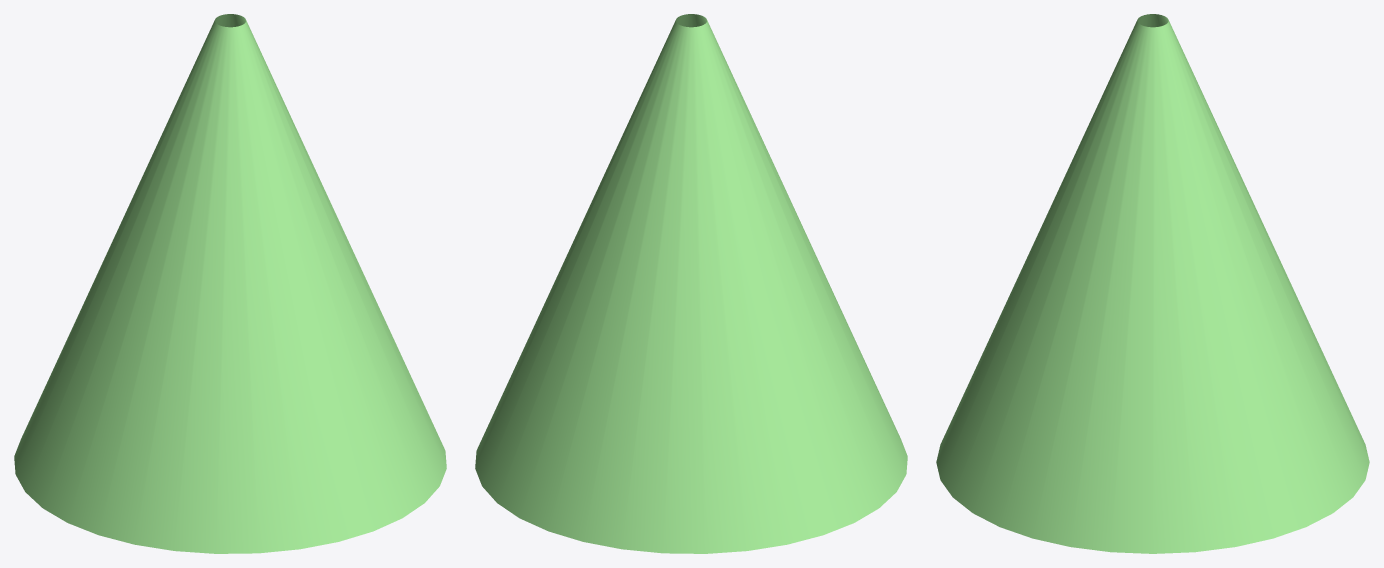
File: Dragonfly_Abduction_UFO_LightGlow_Inverted.fbx
The picture shows the model from 3 angles, left to right: view 1: azimuth 30°, elevation 25°; view 2: azimuth 150°, elevation 25°; view 3: azimuth 270°, elevation 25°; orthographic projection.
Parts seen in each view (by area): view 1: LightGlow_Inverted; view 2: LightGlow_Inverted; view 3: LightGlow_Inverted.
Part boxes in pixels (x1,y1,x2,y2): LightGlow_Inverted: (14, 14, 446, 553); LightGlow_Inverted: (475, 14, 907, 553); LightGlow_Inverted: (936, 14, 1369, 553).
Bounding box in the file's own units: 22.05 × 24.8 × 22.05.
